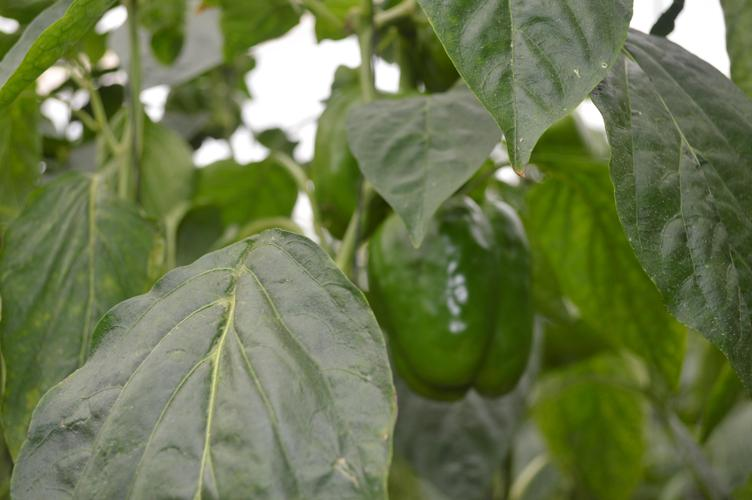BellPepper: (370, 201, 541, 397), (304, 89, 388, 238)
